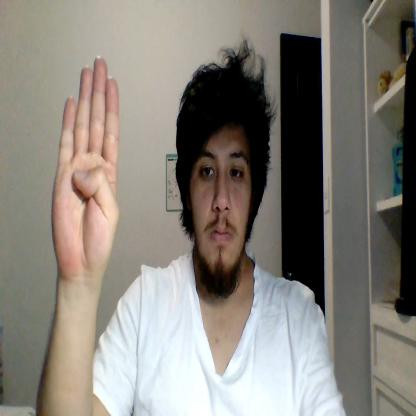B: (51, 57, 120, 278)
